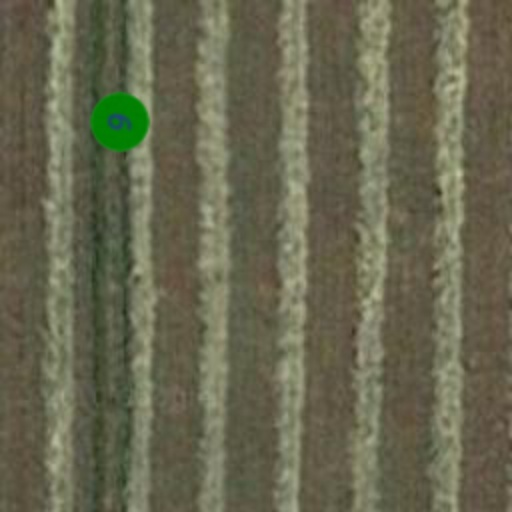circle: (90, 92, 150, 152)
